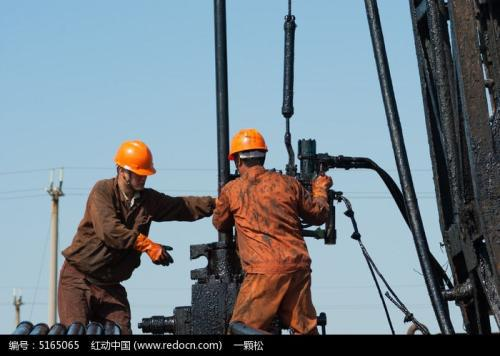helmet: (110, 135, 158, 199), (228, 126, 273, 180)
